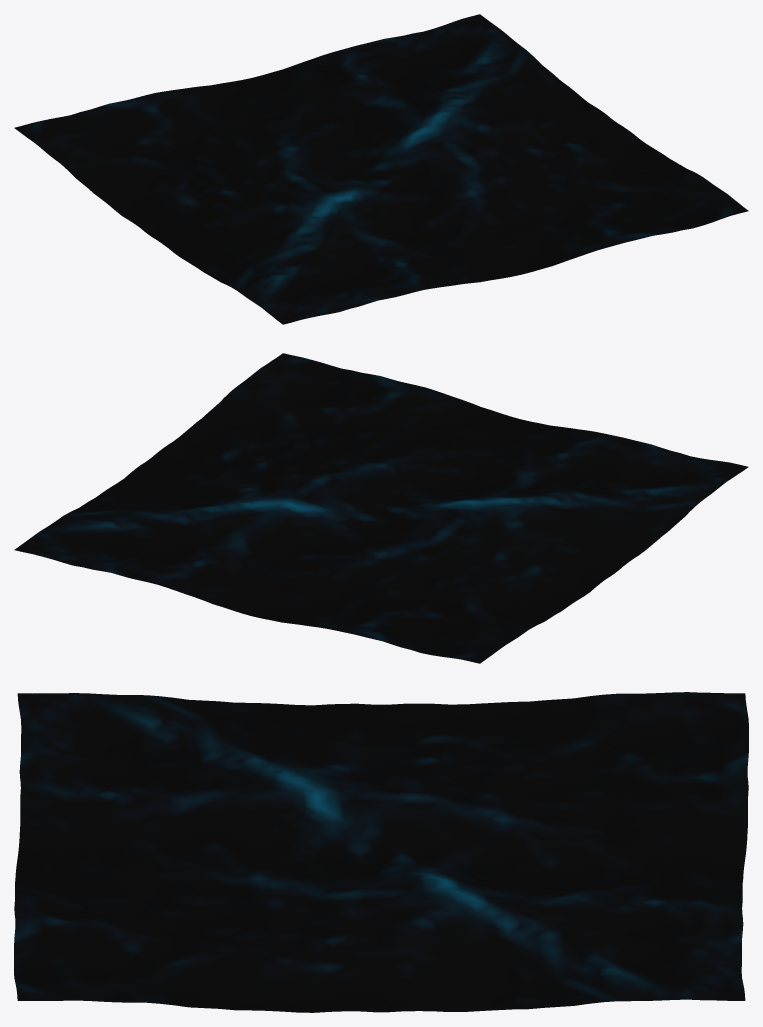
The model's file is Sea(0).glb.
The picture shows the model from 3 angles, top to bottom: view 1: azimuth 30°, elevation 25°; view 2: azimuth 150°, elevation 25°; view 3: azimuth 270°, elevation 25°; orthographic projection. The views are drawn at different scales.
Parts seen in each view (by area): view 1: Sea; view 2: Sea; view 3: Sea.
Part boxes in pixels (left/top/right/bottom): Sea: left=14, top=14, right=748, bottom=324; Sea: left=14, top=353, right=748, bottom=663; Sea: left=14, top=692, right=748, bottom=1012.
Bounding box in the file's own units: 50.25 × 1.58 × 50.5.
